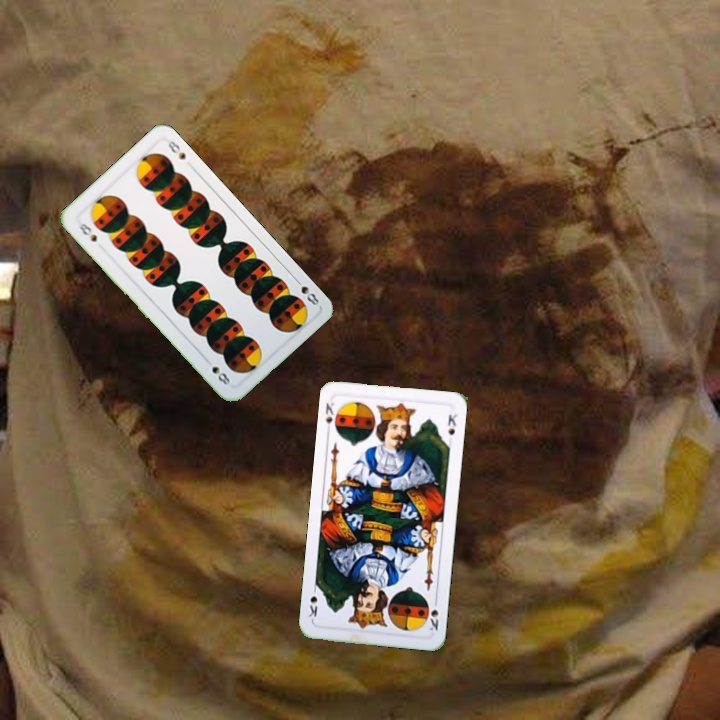S8: (290, 274, 322, 308), (75, 219, 99, 244)
SK: (424, 594, 441, 633), (321, 399, 338, 426)
